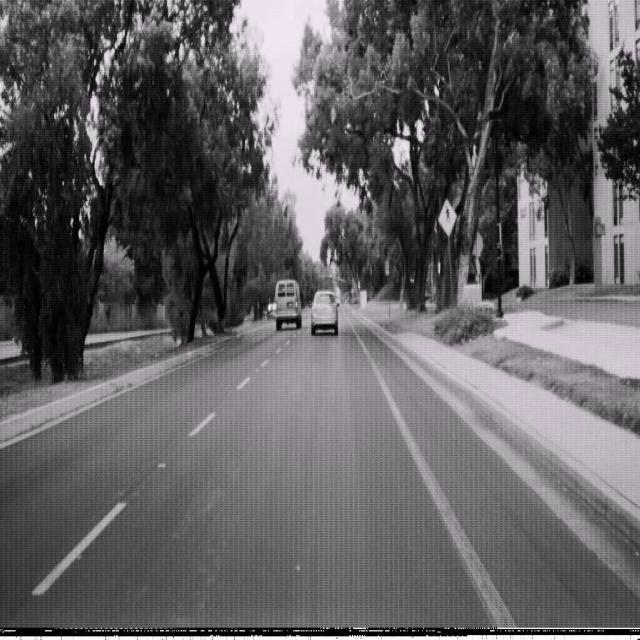pedestrianCrossing: (437, 198, 457, 236)
